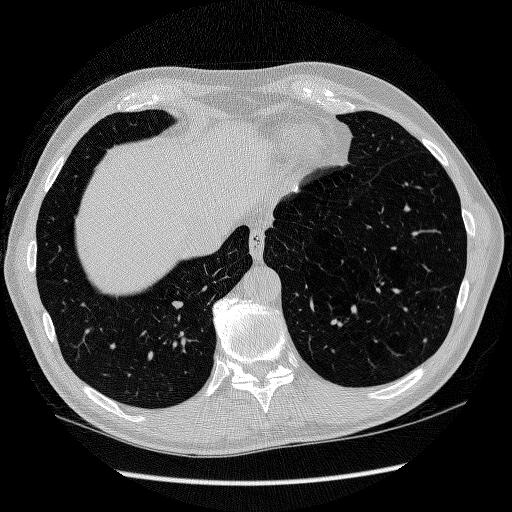nodule: (171, 298, 185, 312)
